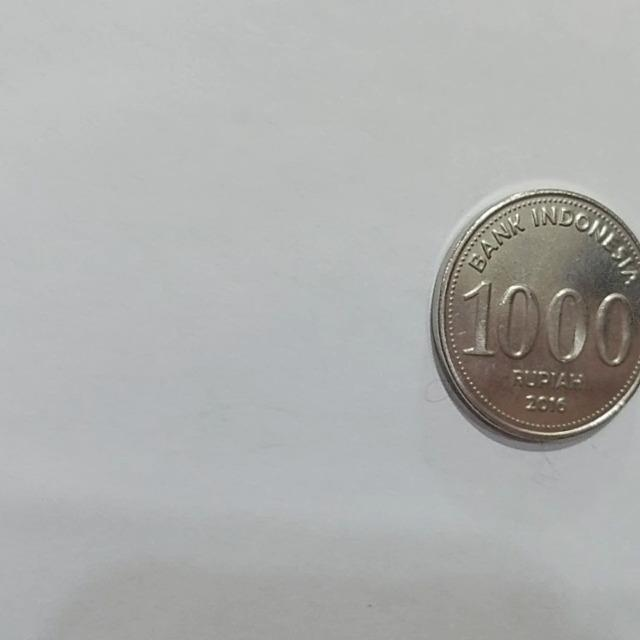Rp100: (428, 185, 640, 450)
